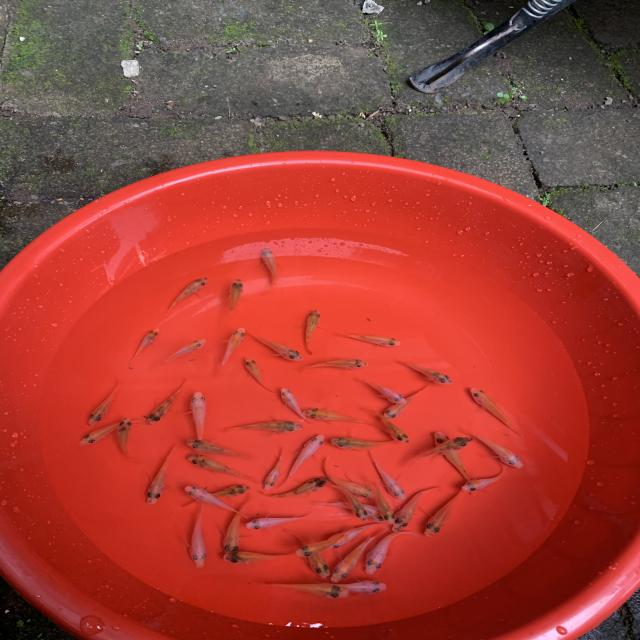nila: (326, 526, 384, 587), (424, 428, 476, 494), (456, 424, 527, 472), (140, 373, 196, 431), (422, 482, 477, 540), (298, 402, 396, 434), (381, 483, 437, 536), (362, 523, 418, 576), (399, 437, 477, 474), (468, 385, 523, 434), (183, 481, 251, 520), (279, 430, 322, 490), (357, 401, 412, 447), (285, 526, 331, 580), (175, 480, 252, 512), (319, 458, 376, 500), (186, 452, 262, 483), (264, 579, 353, 605), (382, 381, 439, 421), (158, 275, 211, 318), (243, 326, 304, 363), (143, 445, 180, 506), (365, 450, 407, 503), (325, 518, 390, 551), (389, 353, 457, 384), (86, 374, 125, 428), (244, 504, 321, 530), (220, 498, 249, 566), (74, 415, 135, 447), (178, 436, 259, 460), (290, 530, 354, 560), (150, 336, 208, 369), (328, 478, 365, 529), (222, 543, 297, 568), (456, 462, 514, 494), (185, 503, 212, 571), (352, 376, 413, 406), (264, 472, 329, 500), (324, 432, 408, 453), (211, 419, 308, 437), (319, 495, 386, 521), (329, 574, 398, 599), (277, 386, 317, 429), (214, 327, 250, 372), (297, 306, 328, 358), (239, 356, 279, 394), (332, 328, 404, 349), (114, 414, 143, 466), (254, 242, 286, 285), (188, 388, 210, 449), (295, 355, 373, 372), (370, 482, 398, 528), (260, 446, 286, 492), (130, 328, 161, 364), (224, 276, 248, 320)
